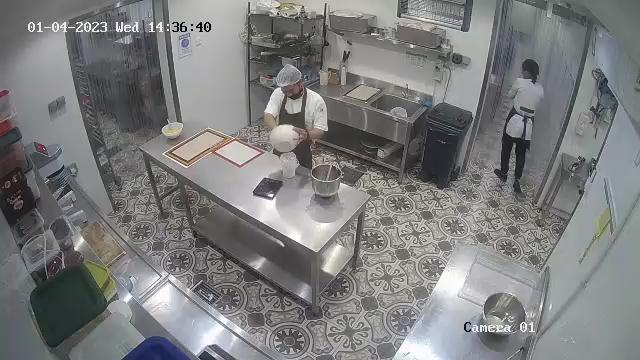apron: (265, 90, 326, 165)
